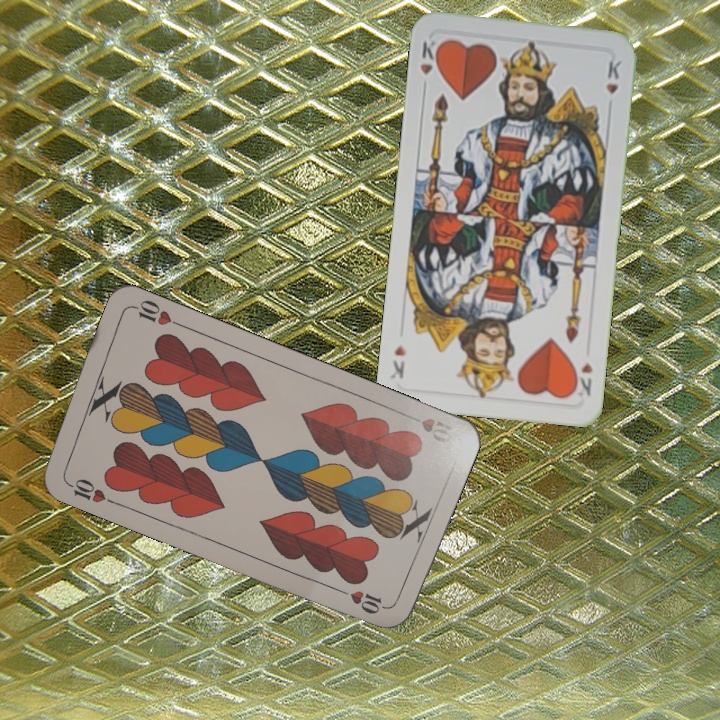H10: (61, 474, 117, 507), (417, 414, 455, 446)
HK: (416, 35, 444, 78), (569, 358, 595, 399)
